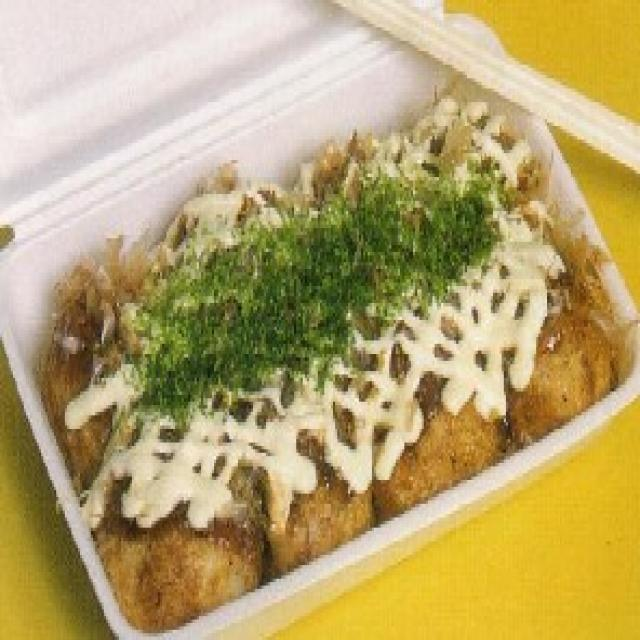炸货点心: (37, 126, 640, 637)
